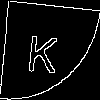K: (25, 25, 61, 74)
